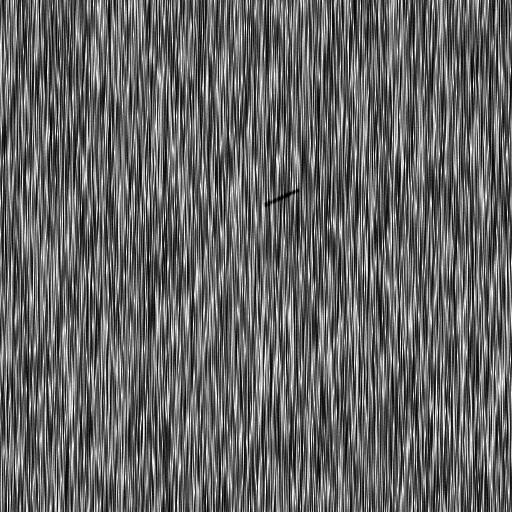DefectTypeC: (265, 189, 301, 207)
